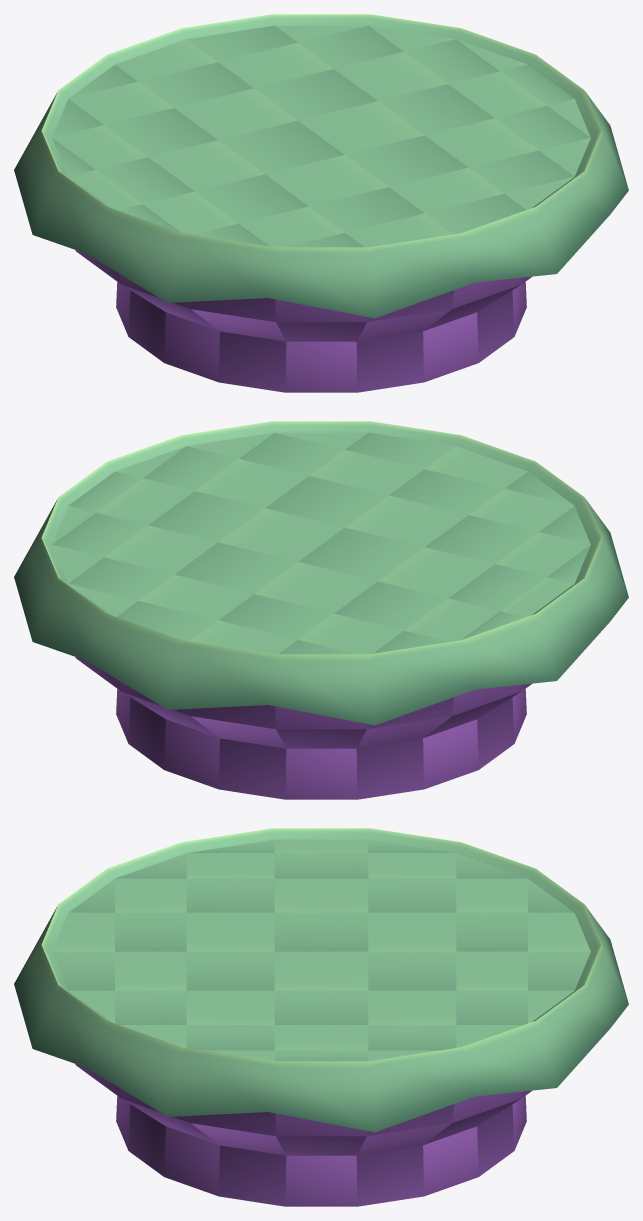
Rendered from Fbx_Islands.fbx_Short.fbx.
3 renders of one model, top to bottom at view 1: azimuth 30°, elevation 25°; view 2: azimuth 150°, elevation 25°; view 3: azimuth 270°, elevation 25°, orthographic.
Parts seen in each view (by area): view 1: Island Short; view 2: Island Short; view 3: Island Short.
Part boxes in pixels (bbox=[...]): Island Short: bbox=[14, 14, 628, 392]; Island Short: bbox=[14, 421, 628, 799]; Island Short: bbox=[14, 828, 628, 1206].
Bounding box in the file's own units: 6.74 × 2.6 × 6.85.
